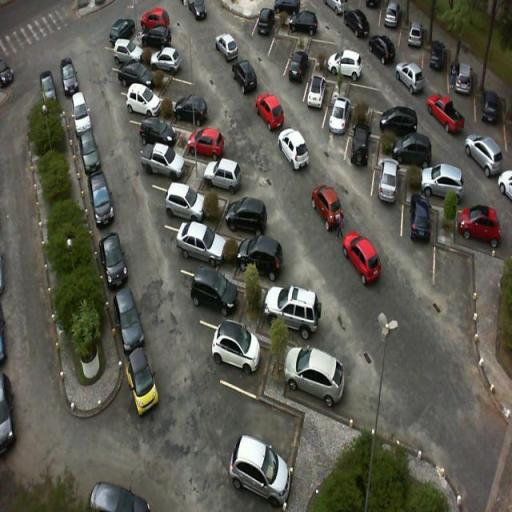Slot-empty: (214, 374, 303, 462), (430, 233, 487, 325), (344, 78, 392, 118), (161, 71, 200, 105), (266, 28, 294, 74)
Slot-occupied: (195, 310, 280, 398), (227, 425, 304, 509), (175, 258, 249, 332), (162, 220, 247, 284), (146, 178, 223, 236), (136, 146, 204, 199), (399, 187, 440, 261), (128, 116, 190, 164), (370, 156, 408, 230), (114, 80, 171, 128), (343, 120, 378, 185), (300, 70, 331, 124), (325, 96, 354, 153)
